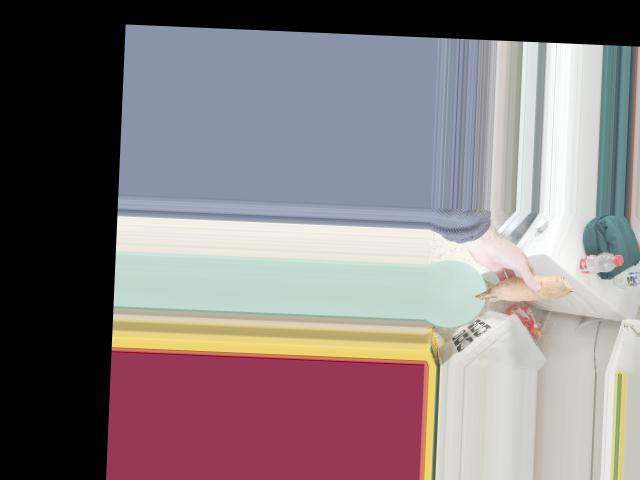sweet_potato: (472, 272, 567, 304)
